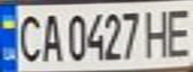0: (63, 10, 87, 62)
2: (103, 8, 124, 61)
4: (84, 8, 106, 61)
7: (121, 7, 145, 60)
A: (36, 10, 63, 63)
C: (12, 10, 45, 63)
E: (160, 3, 193, 57)
H: (142, 4, 175, 58)
